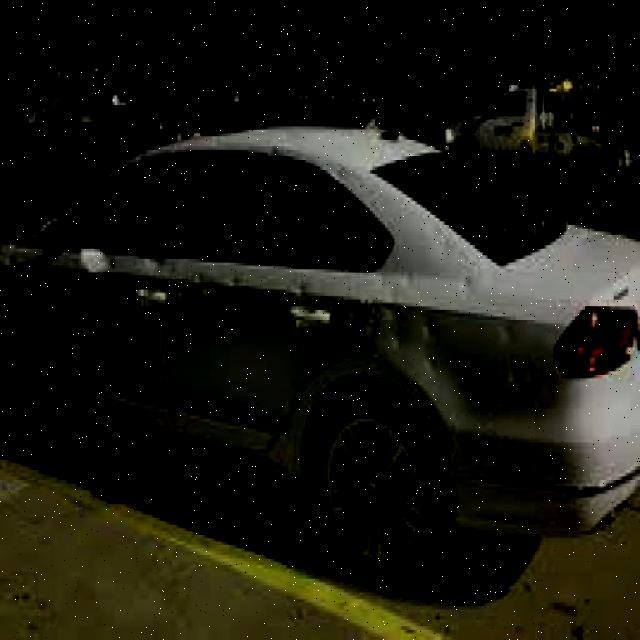car damage: (425, 219, 537, 388), (287, 272, 453, 374), (75, 255, 270, 304)
